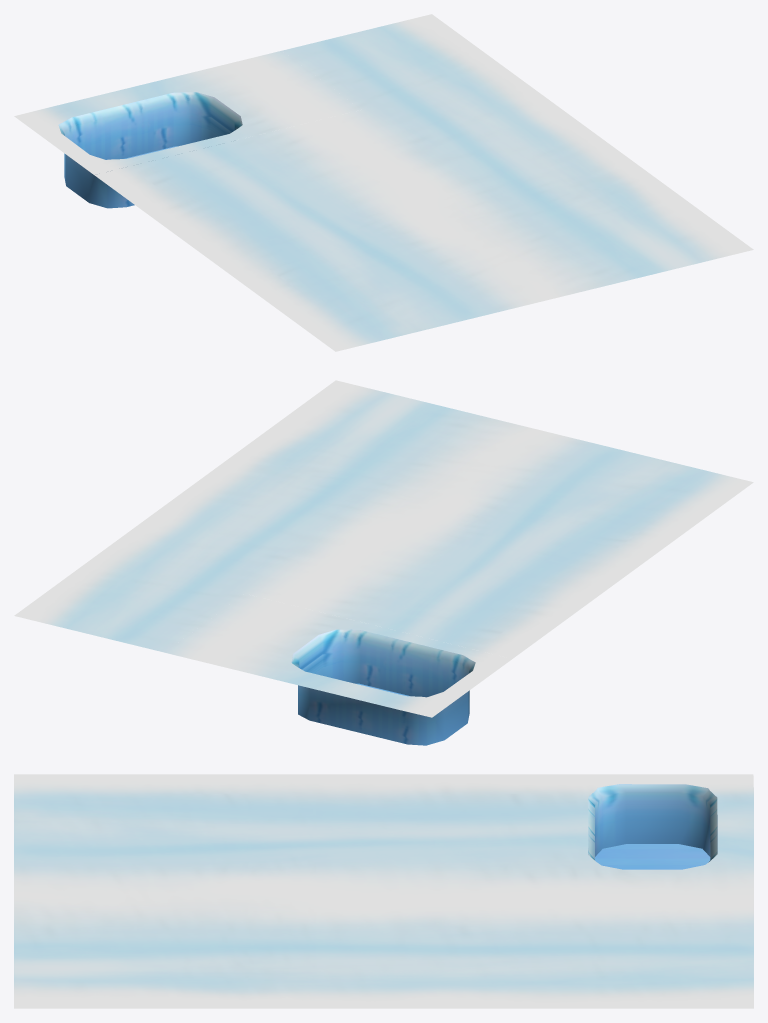
File: Hole_M_Size_02.FBX
3 renders of one model, top to bottom at view 1: azimuth 30°, elevation 25°; view 2: azimuth 150°, elevation 25°; view 3: azimuth 270°, elevation 25°, orthographic. The views are drawn at different scales.
Visible parts, largest first — view 1: Object112; view 2: Object112; view 3: Object112.
Boxes of the visible parts, left/top/right/bottom form: Object112: left=14, top=14, right=753, bottom=351; Object112: left=14, top=380, right=753, bottom=745; Object112: left=14, top=774, right=753, bottom=1008.
Size of the model in its own units: 600 by 70 by 800.
